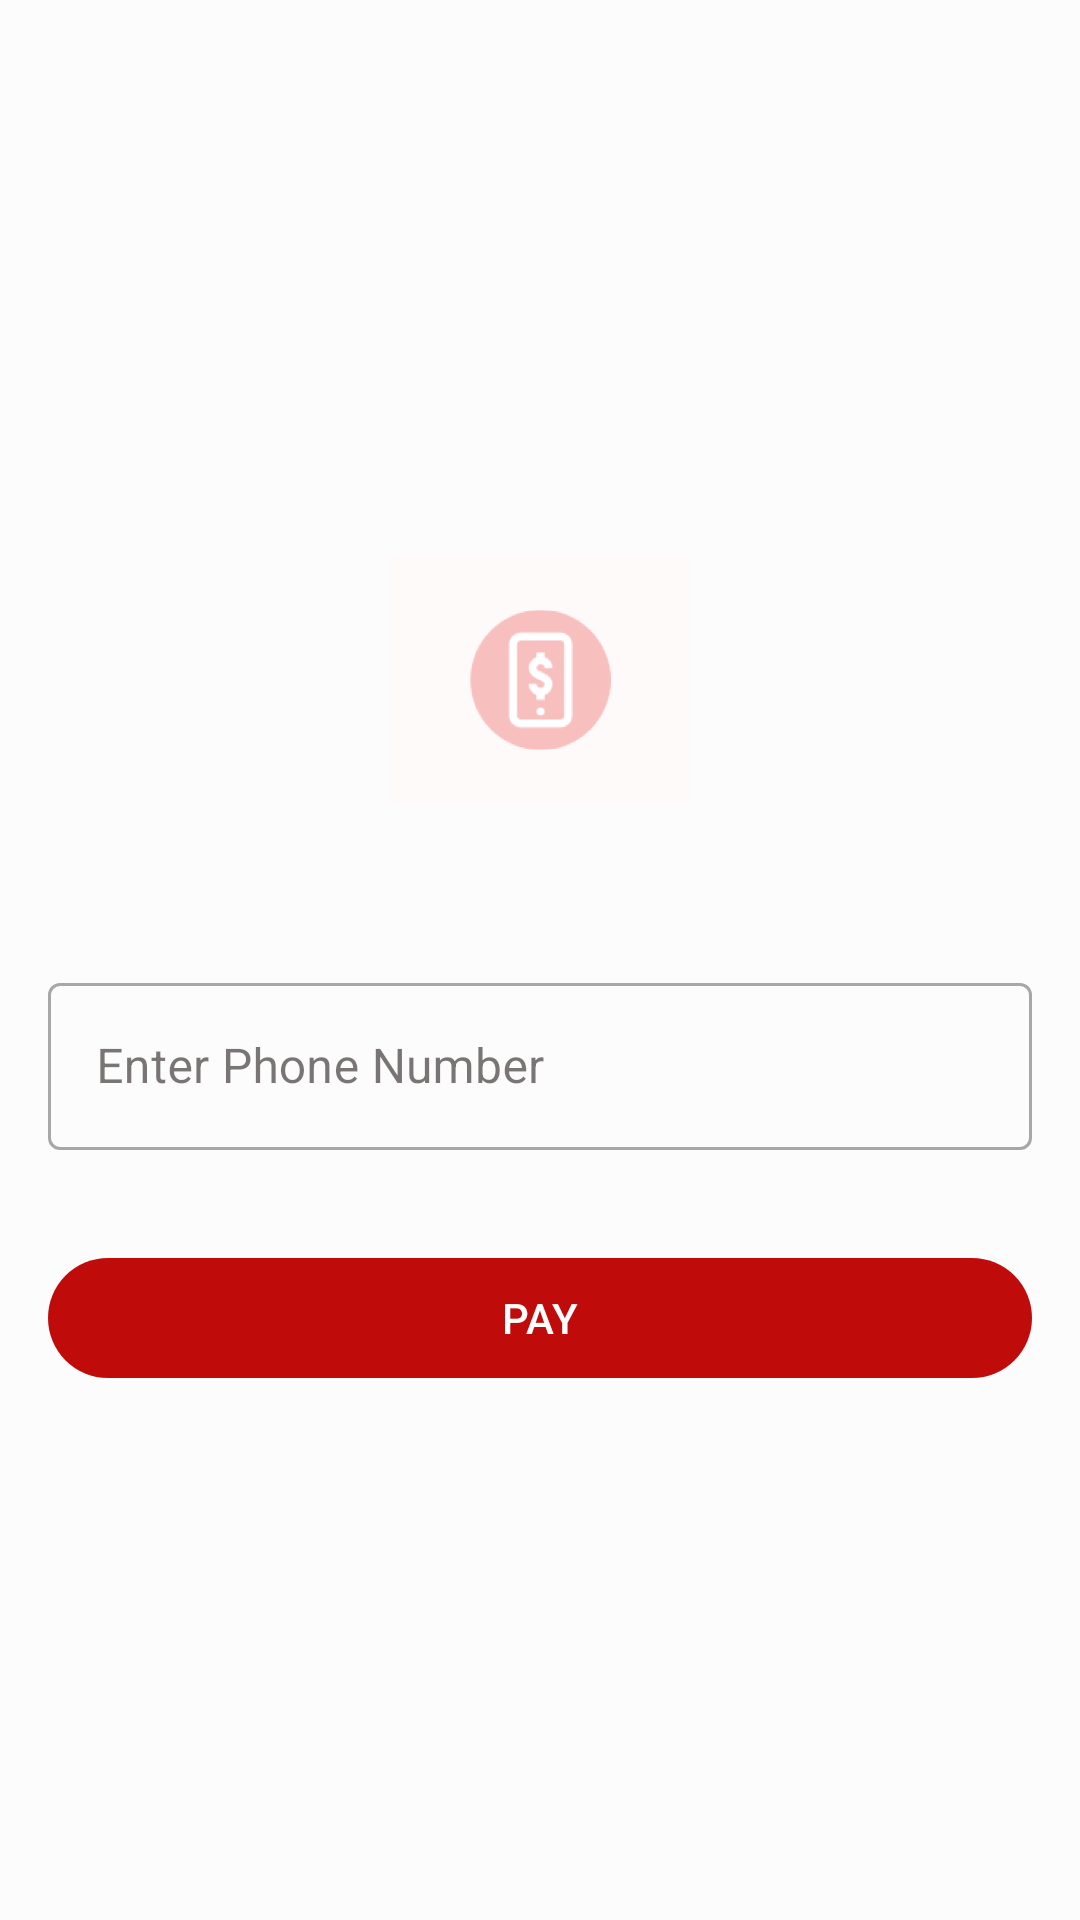

Icons on this 1080×1920 Android screen, each with its box as [left=x1, top=y1, right=x2, bottom=y2]:
payment: [left=470, top=610, right=611, bottom=750]
